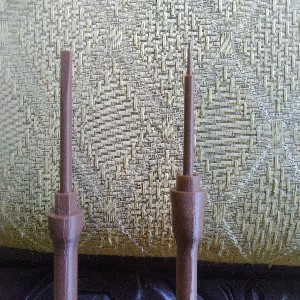obeng: (47, 48, 85, 300)
solder: (170, 39, 206, 300)
